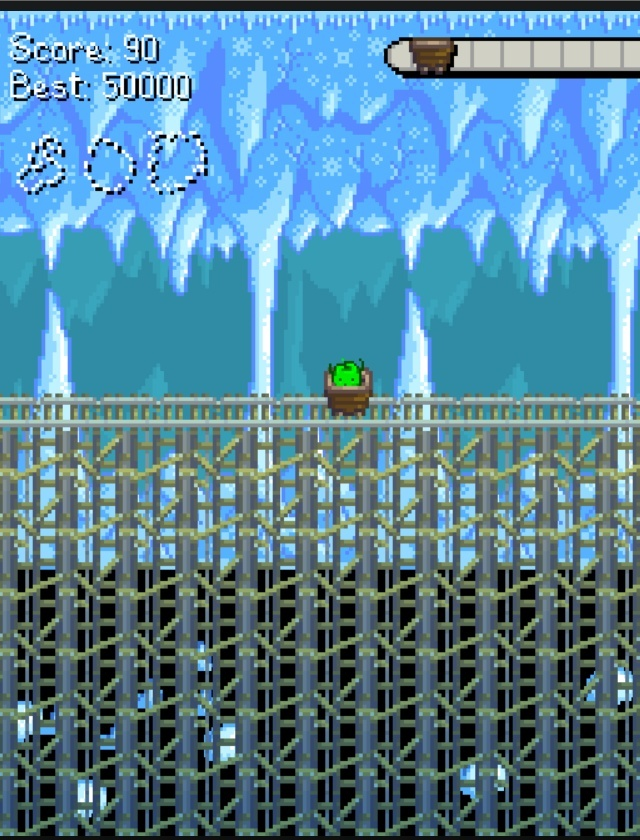minecart: (324, 360, 370, 414)
score: (122, 31, 160, 64)
tracks: (0, 390, 322, 432)
